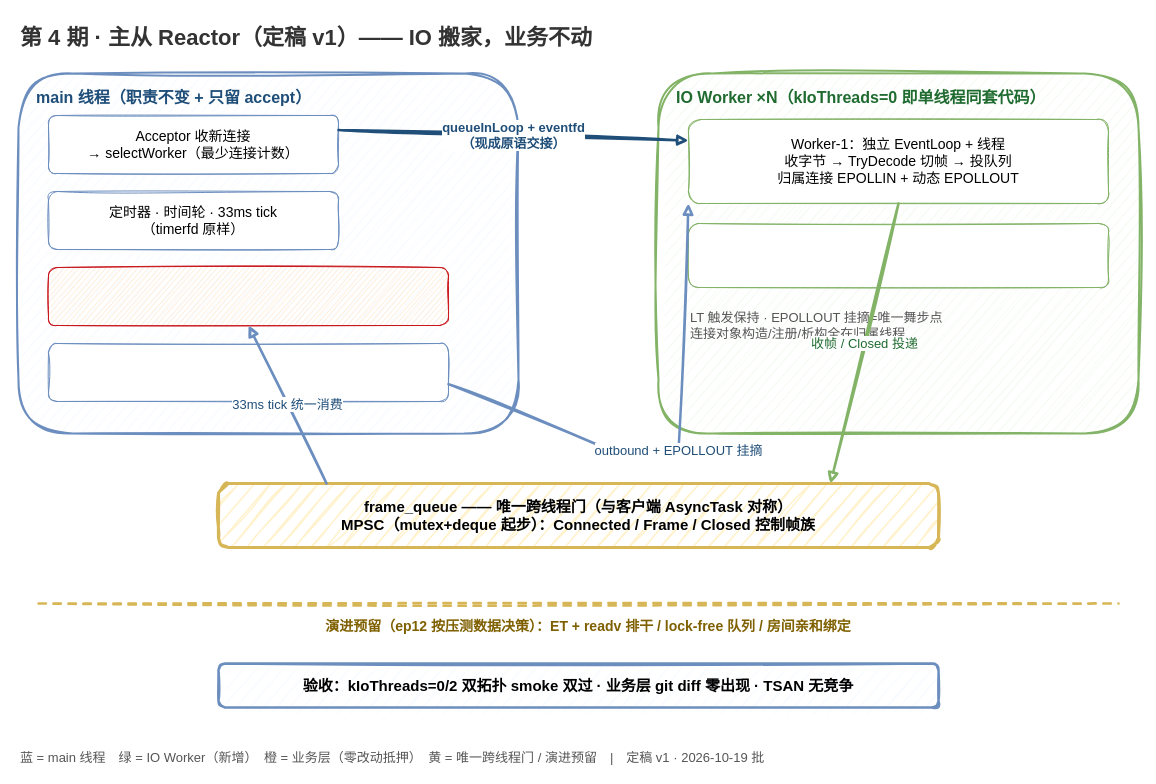
This 1156x784 diagram has some shape labels left out. Each missing label, with the centre of its shape:
"FrameWriter 编码 → 连接 outbound 缓冲 （main 只碰 buffer 不碰 socket）" belongs at [248,372].
"Worker-2：同构 （连接归属固定 · per-connection 零锁）" belongs at [898,255].
"业务层：LobbyService / MatchService 单线程串行铁律 · 零锁 · 45×3 单测不碰" belongs at [248,296].
